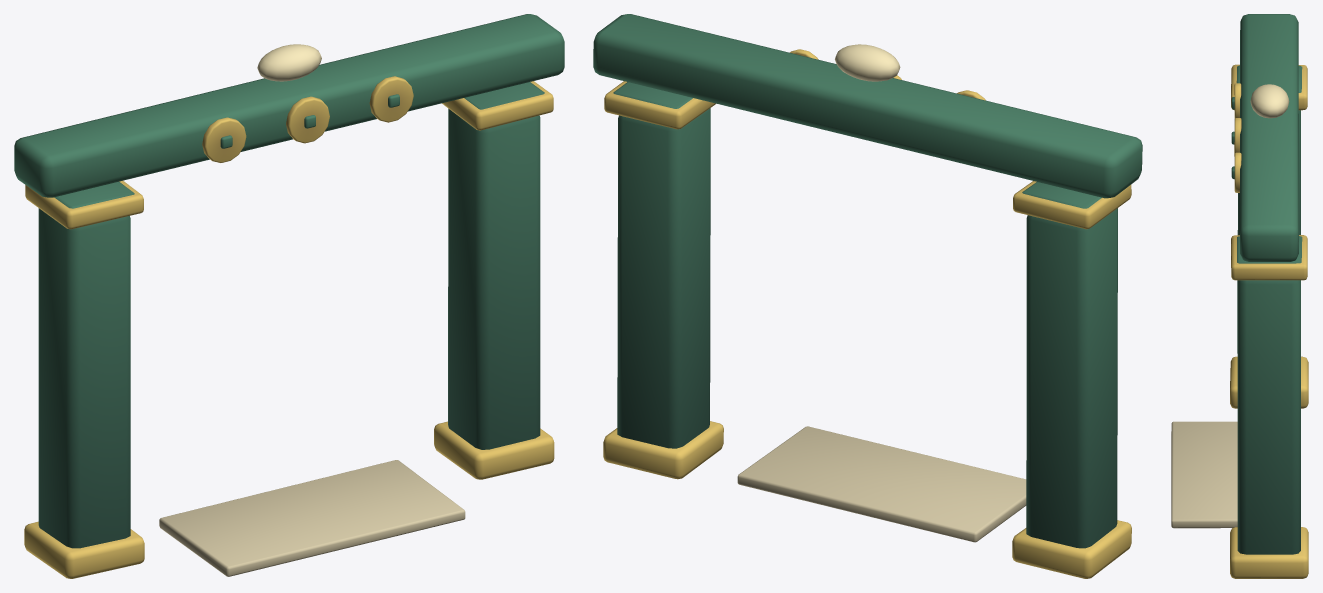
The picture shows the model from 3 angles, left to right: view 1: azimuth 30°, elevation 25°; view 2: azimuth 150°, elevation 25°; view 3: azimuth 270°, elevation 25°; orthographic projection. The views are drawn at different scales.
Visible parts, largest first — view 1: gate_838513f4; view 2: gate_838513f4; view 3: gate_838513f4.
Part boxes in pixels (bbox=[...]): gate_838513f4: bbox=[14, 14, 564, 578]; gate_838513f4: bbox=[593, 14, 1142, 578]; gate_838513f4: bbox=[1171, 14, 1308, 578].
Bounding box in the file's own units: 5.27 × 4.41 × 1.4.
